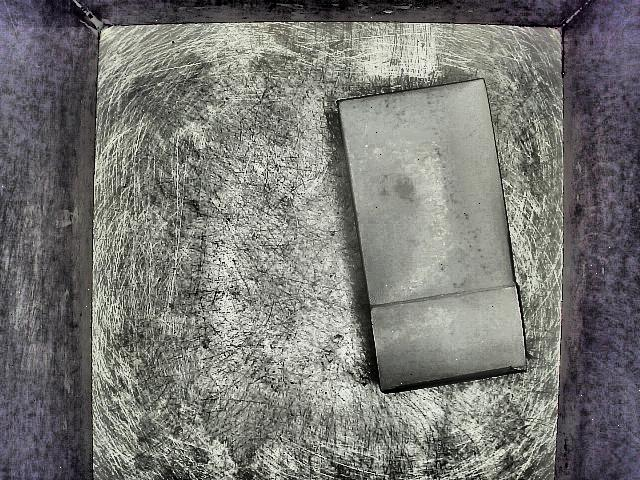Paper: (296, 71, 535, 392)
